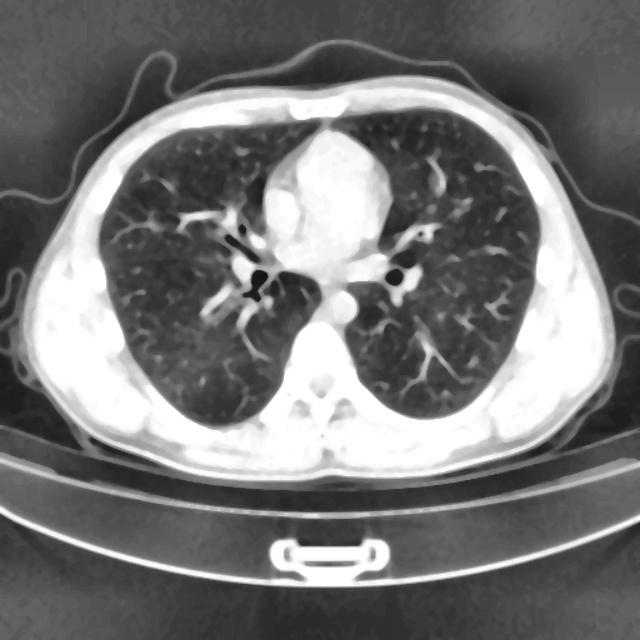covid: (13, 55, 620, 488)
